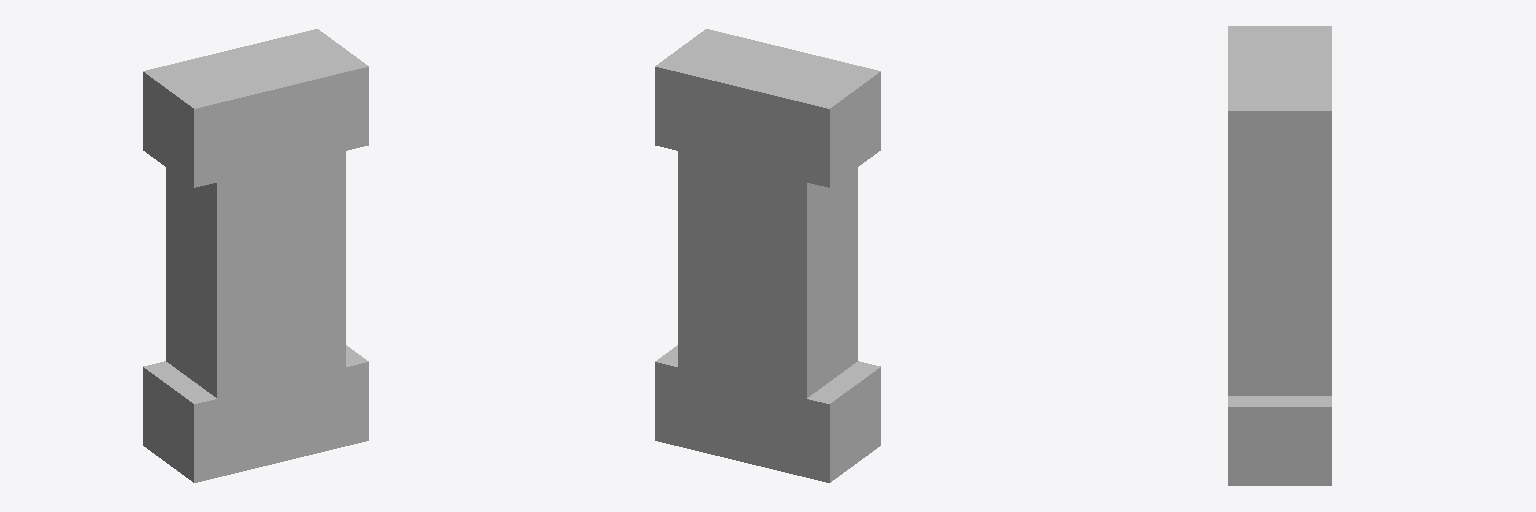
3 views of the same model, side by side, from view 1: azimuth 30°, elevation 25°; view 2: azimuth 150°, elevation 25°; view 3: azimuth 270°, elevation 25° (orthographic).
Parts seen in each view (by area): view 1: text: ABCDEFGHIJKLMNOPQRSTUVWXYZ[number redacted]; view 2: text: ABCDEFGHIJKLMNOPQRSTUVWXYZ[number redacted]; view 3: text: ABCDEFGHIJKLMNOPQRSTUVWXYZ[number redacted].
Part boxes in pixels (left/top/right/bottom): text: ABCDEFGHIJKLMNOPQRSTUVWXYZ[number redacted]: left=143, top=29, right=368, bottom=482; text: ABCDEFGHIJKLMNOPQRSTUVWXYZ[number redacted]: left=655, top=29, right=880, bottom=482; text: ABCDEFGHIJKLMNOPQRSTUVWXYZ[number redacted]: left=1228, top=26, right=1331, bottom=485.
Size of the model in its own units: 48.84 by 100 by 25.